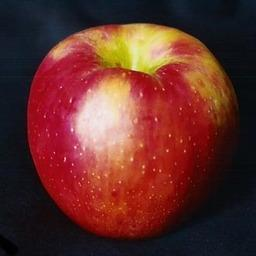apple: (25, 20, 235, 240)
